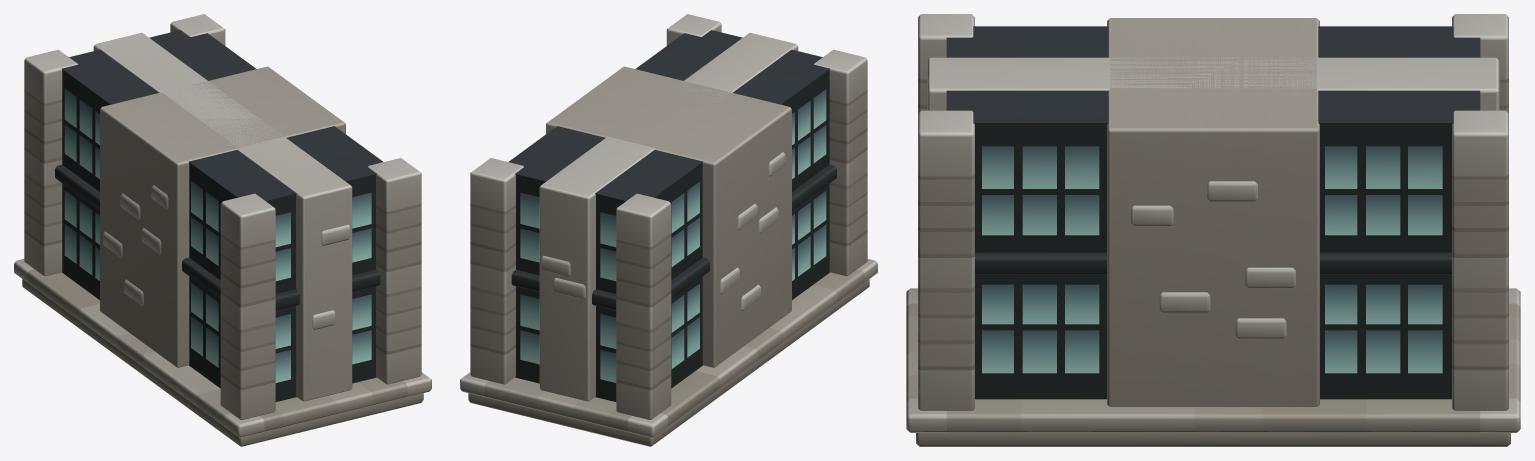
Rendered from office_building_type2_double_floor_cream.fbx.
3 renders of one model, left to right at view 1: azimuth 30°, elevation 25°; view 2: azimuth 150°, elevation 25°; view 3: azimuth 270°, elevation 25°, orthographic. The views are drawn at different scales.
Parts seen in each view (by area): view 1: office_building_type2_double_floor_cream; view 2: office_building_type2_double_floor_cream; view 3: office_building_type2_double_floor_cream.
Part boxes in pixels (x1=…): office_building_type2_double_floor_cream: x1=14, y1=14, x2=431, y2=446; office_building_type2_double_floor_cream: x1=460, y1=14, x2=877, y2=446; office_building_type2_double_floor_cream: x1=906, y1=14, x2=1520, y2=446.
Size of the model in its own units: 800 by 909 by 1610.
